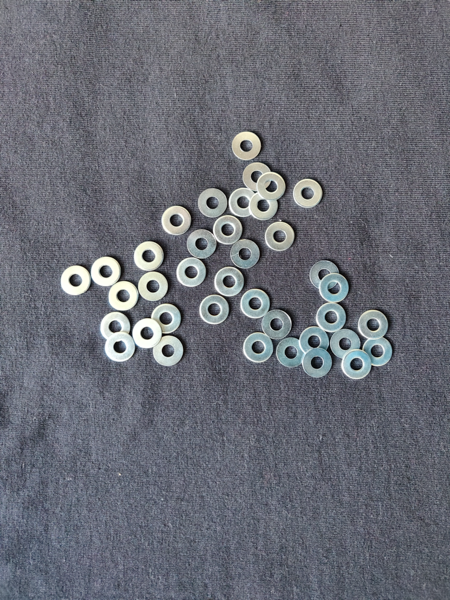circle: (161, 203, 194, 240), (59, 264, 91, 301), (298, 324, 331, 359), (361, 334, 392, 371), (230, 130, 265, 162), (263, 220, 296, 253), (261, 307, 294, 340), (197, 187, 230, 220), (341, 347, 373, 381), (148, 304, 183, 335), (212, 214, 245, 246), (131, 318, 163, 351), (91, 255, 123, 288), (318, 273, 352, 304), (275, 336, 306, 370), (228, 240, 262, 271), (292, 178, 324, 210), (175, 255, 207, 287), (133, 240, 165, 272), (152, 335, 184, 367), (103, 332, 135, 364), (308, 259, 341, 290), (331, 329, 362, 362), (243, 332, 274, 364), (241, 289, 272, 321), (213, 266, 244, 298), (199, 295, 230, 327), (257, 170, 288, 202), (138, 271, 170, 302), (107, 281, 138, 312), (315, 303, 347, 333), (252, 190, 282, 222), (228, 188, 258, 220), (187, 229, 219, 259), (99, 312, 131, 342), (242, 161, 272, 192), (359, 310, 388, 342), (303, 349, 332, 380)
